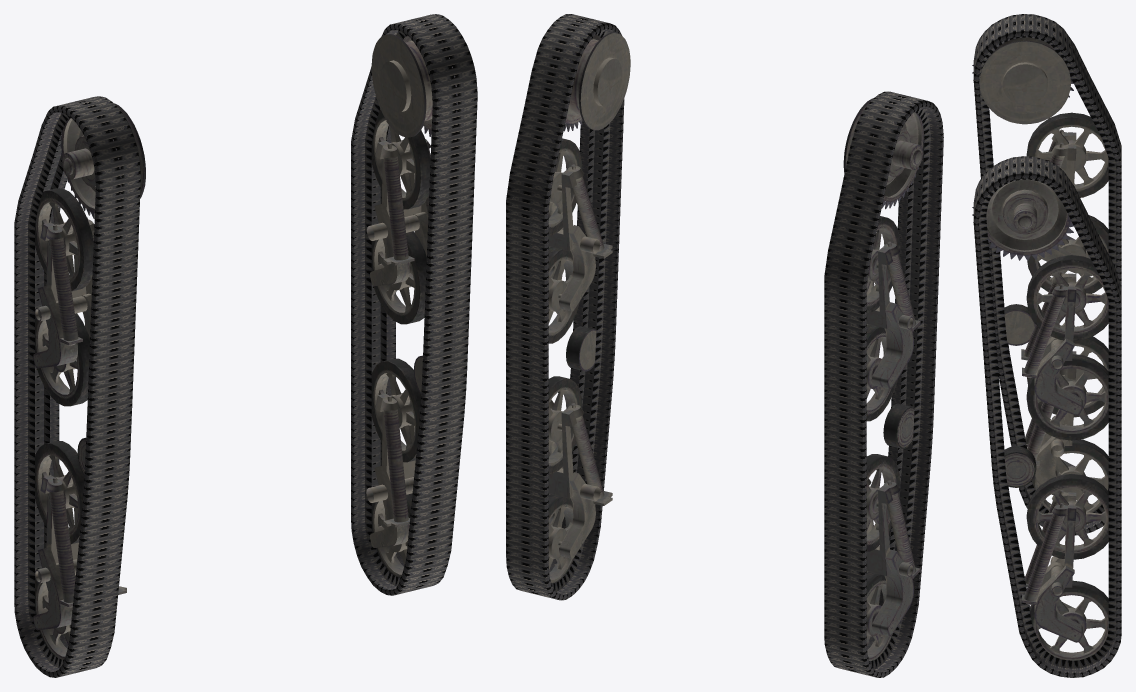
File: Chassis.glb
3 views of the same model, side by side, from view 1: azimuth 30°, elevation 25°; view 2: azimuth 150°, elevation 25°; view 3: azimuth 270°, elevation 25° (orthographic). The views are drawn at different scales.
Visible parts, largest first — view 1: set_3_group_0, set_2_group_0, set_0_group_0, set_1_group_0; view 2: set_3_group_0, set_2_group_0, set_0_group_0, set_1_group_0; view 3: set_0_group_0, set_2_group_0, set_1_group_0, set_3_group_0.
Part boxes in pixels (x1,y1,x2,y2): set_3_group_0: [14, 96, 140, 677]; set_2_group_0: [351, 14, 477, 595]; set_0_group_0: [366, 19, 457, 577]; set_1_group_0: [33, 101, 145, 659]; set_3_group_0: [824, 91, 943, 677]; set_2_group_0: [506, 14, 624, 600]; set_0_group_0: [548, 18, 630, 583]; set_1_group_0: [843, 95, 923, 660]; set_0_group_0: [972, 164, 1108, 660]; set_2_group_0: [973, 156, 1121, 677]; set_1_group_0: [972, 22, 1108, 512]; set_3_group_0: [973, 14, 1121, 535].
Bounding box in the file's own units: 2.26 × 3.12 × 0.8377.
Materials: 4 (4 with a texture image).
